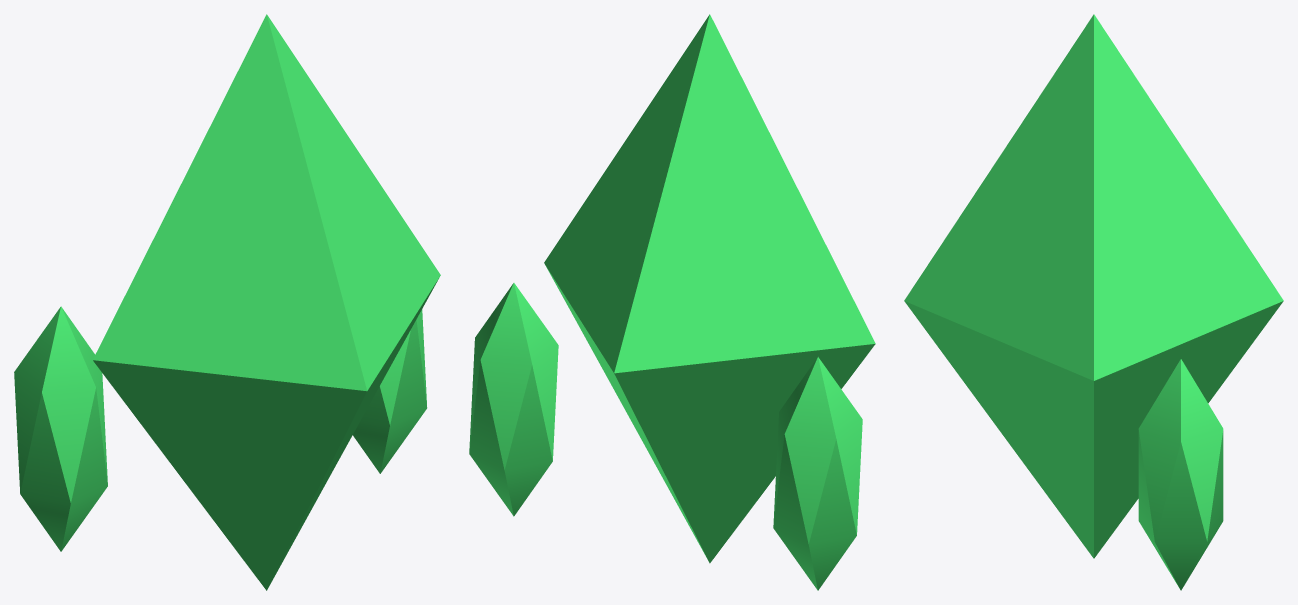
The model's file is item_gem.glb.
3 renders of one model, left to right at view 1: azimuth 30°, elevation 25°; view 2: azimuth 150°, elevation 25°; view 3: azimuth 270°, elevation 25°, orthographic. The views are drawn at different scales.
Parts seen in each view (by area): view 1: item_gem, item_gem_detail; view 2: item_gem, item_gem_detail; view 3: item_gem, item_gem_detail.
Boxes of the visible parts, x1=… form: item_gem: x1=93, y1=14, x2=440, y2=590; item_gem_detail: x1=14, y1=306, x2=427, y2=551; item_gem: x1=544, y1=14, x2=875, y2=563; item_gem_detail: x1=469, y1=283, x2=862, y2=590; item_gem: x1=904, y1=14, x2=1283, y2=558; item_gem_detail: x1=1138, y1=359, x2=1223, y2=590.
Size of the model in its own units: 0.2763 by 0.38 by 0.24.
